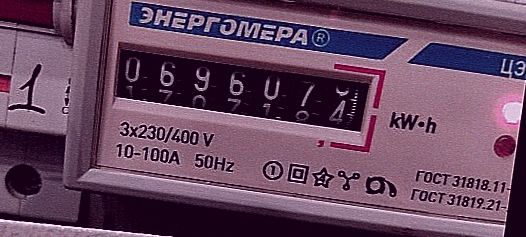0: (119, 53, 144, 85), (260, 72, 282, 103)
4: (324, 96, 347, 128)
6: (224, 67, 248, 100), (154, 58, 177, 89)
7: (294, 76, 316, 109)
9: (189, 63, 213, 94)
screen: (96, 25, 389, 156)
